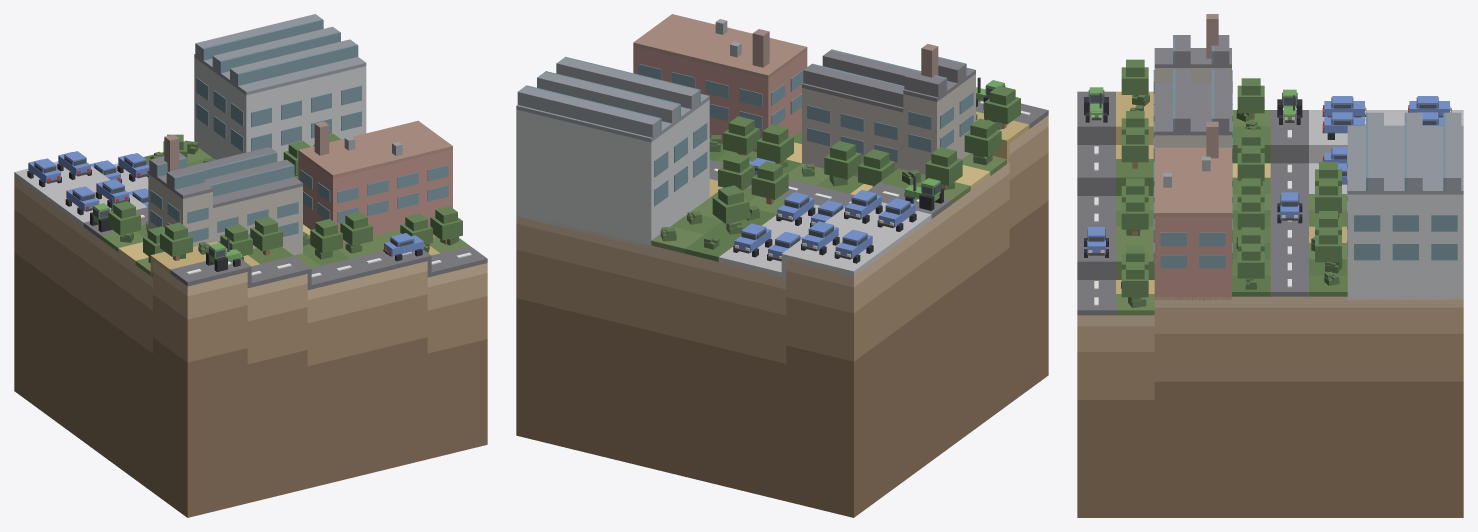
File: block_13_engineered_40.glb
3 views of the same model, side by side, from view 1: azimuth 30°, elevation 25°; view 2: azimuth 150°, elevation 25°; view 3: azimuth 270°, elevation 25° (orthographic). The views are drawn at different scales.
Visible parts, largest first — view 1: Patch_LowerLeft_b13_ES, Factories_LowerLeft_b13_ES, Roads_LowerLeft_b13_ES, Ground_LowerLeft_b13_ES, Parking_LowerLeft_b13_ES, Asset_Tree_Round.111_ES, Asset_Tree_Round.113_ES, Asset_Tree_Round.117_ES, Asset_Tree_Round.093_ES, Asset_Tree_Round.114_ES, Asset_Tree_Round.115_ES, Asset_Car.007_ES (+8 smaller); view 2: Patch_LowerLeft_b13_ES, Factories_LowerLeft_b13_ES, Ground_LowerLeft_b13_ES, Parking_LowerLeft_b13_ES, Roads_LowerLeft_b13_ES, Asset_Tree_Round.086_ES, Asset_Tree_Round.019_ES, Asset_Tree_Round.111_ES, Asset_Tree_Round.105_ES, Asset_Tree_Round.096_ES, Asset_Tree_Round.093_ES, Asset_Tree_Round.097_ES (+10 smaller); view 3: Patch_LowerLeft_b13_ES, Factories_LowerLeft_b13_ES, Roads_LowerLeft_b13_ES, Ground_LowerLeft_b13_ES, Parking_LowerLeft_b13_ES, Asset_Tree_Round.113_ES, Asset_Tree_Round.093_ES, Asset_Tree_Round.115_ES, Asset_Tree_Round.099_ES, Asset_Tree_Round.117_ES, Asset_Tree_Round.111_ES, Asset_Tree_Round.089_ES (+19 smaller).
Boxes of the visible parts, x1=… form: Patch_LowerLeft_b13_ES: x1=14, y1=176, x2=487, y2=517; Factories_LowerLeft_b13_ES: x1=148, y1=14, x2=452, y2=255; Roads_LowerLeft_b13_ES: x1=83, y1=207, x2=487, y2=290; Ground_LowerLeft_b13_ES: x1=101, y1=148, x2=469, y2=277; Parking_LowerLeft_b13_ES: x1=14, y1=161, x2=148, y2=226; Asset_Tree_Round.111_ES: x1=160, y1=222, x2=192, y2=260; Asset_Tree_Round.113_ES: x1=250, y1=217, x2=282, y2=255; Asset_Tree_Round.117_ES: x1=430, y1=206, x2=462, y2=244; Asset_Tree_Round.093_ES: x1=108, y1=201, x2=140, y2=235; Asset_Tree_Round.114_ES: x1=310, y1=219, x2=342, y2=253; Asset_Tree_Round.115_ES: x1=340, y1=211, x2=372, y2=245; Asset_Car.007_ES: x1=383, y1=233, x2=424, y2=261; Patch_LowerLeft_b13_ES: x1=516, y1=115, x2=1048, y2=517; Factories_LowerLeft_b13_ES: x1=516, y1=14, x2=975, y2=248; Ground_LowerLeft_b13_ES: x1=651, y1=111, x2=1029, y2=261; Parking_LowerLeft_b13_ES: x1=718, y1=202, x2=931, y2=278; Roads_LowerLeft_b13_ES: x1=709, y1=100, x2=1048, y2=218; Asset_Tree_Round.086_ES: x1=751, y1=161, x2=788, y2=204; Asset_Tree_Round.019_ES: x1=712, y1=185, x2=749, y2=231; Asset_Tree_Round.111_ES: x1=984, y1=85, x2=1020, y2=128; Asset_Tree_Round.105_ES: x1=964, y1=118, x2=1001, y2=157; Asset_Tree_Round.096_ES: x1=757, y1=124, x2=793, y2=163; Asset_Tree_Round.093_ES: x1=925, y1=147, x2=962, y2=190; Asset_Tree_Round.097_ES: x1=723, y1=116, x2=759, y2=155; Patch_LowerLeft_b13_ES: x1=1077, y1=296, x2=1463, y2=517; Factories_LowerLeft_b13_ES: x1=1153, y1=14, x2=1463, y2=300; Roads_LowerLeft_b13_ES: x1=1077, y1=91, x2=1308, y2=315; Ground_LowerLeft_b13_ES: x1=1116, y1=91, x2=1347, y2=315; Parking_LowerLeft_b13_ES: x1=1309, y1=110, x2=1463, y2=193; Asset_Tree_Round.113_ES: x1=1121, y1=127, x2=1148, y2=168; Asset_Tree_Round.093_ES: x1=1237, y1=78, x2=1264, y2=119; Asset_Tree_Round.115_ES: x1=1121, y1=194, x2=1148, y2=235; Asset_Tree_Round.099_ES: x1=1237, y1=243, x2=1264, y2=278; Asset_Tree_Round.117_ES: x1=1121, y1=262, x2=1148, y2=297; Asset_Tree_Round.111_ES: x1=1121, y1=59, x2=1148, y2=97; Asset_Tree_Round.089_ES: x1=1315, y1=227, x2=1341, y2=262.
Size of the model in its own units: 9.52 by 9.83 by 9.5.
